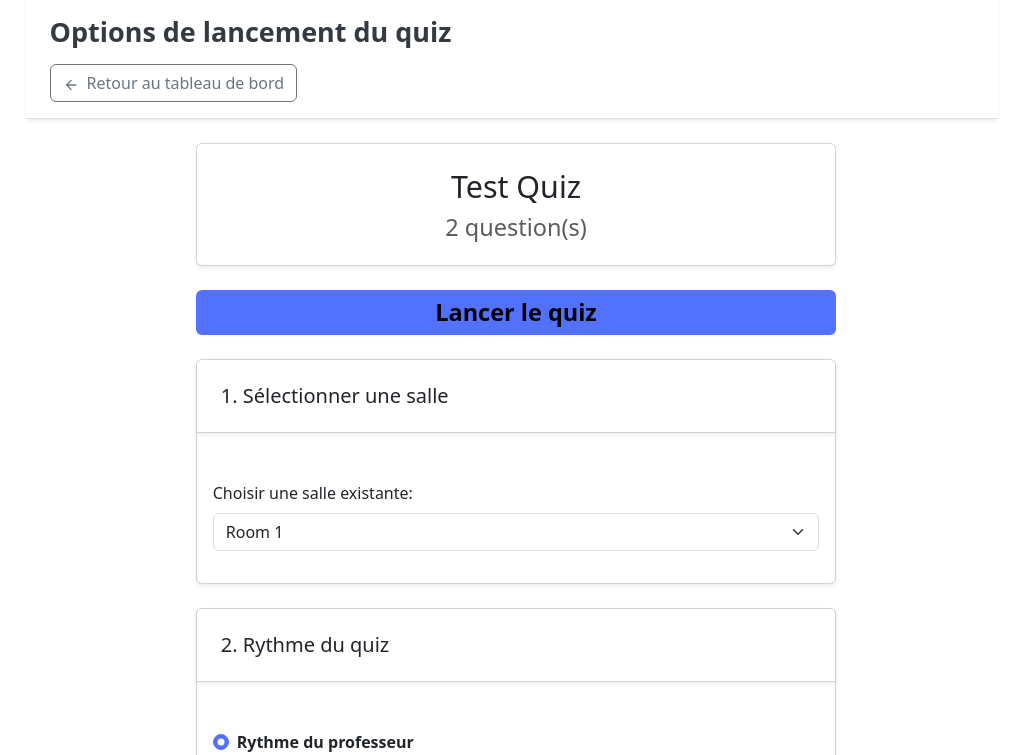
Test: ManageRoomV2 Component › WebSocket Integration › should handle user joined event
The image size is (1024, 755).
Select "Room 1" in the dropdown: (516, 532) [213,513,819,551]
Click the button "Lancer le quiz": (516, 312) [196,290,836,335]
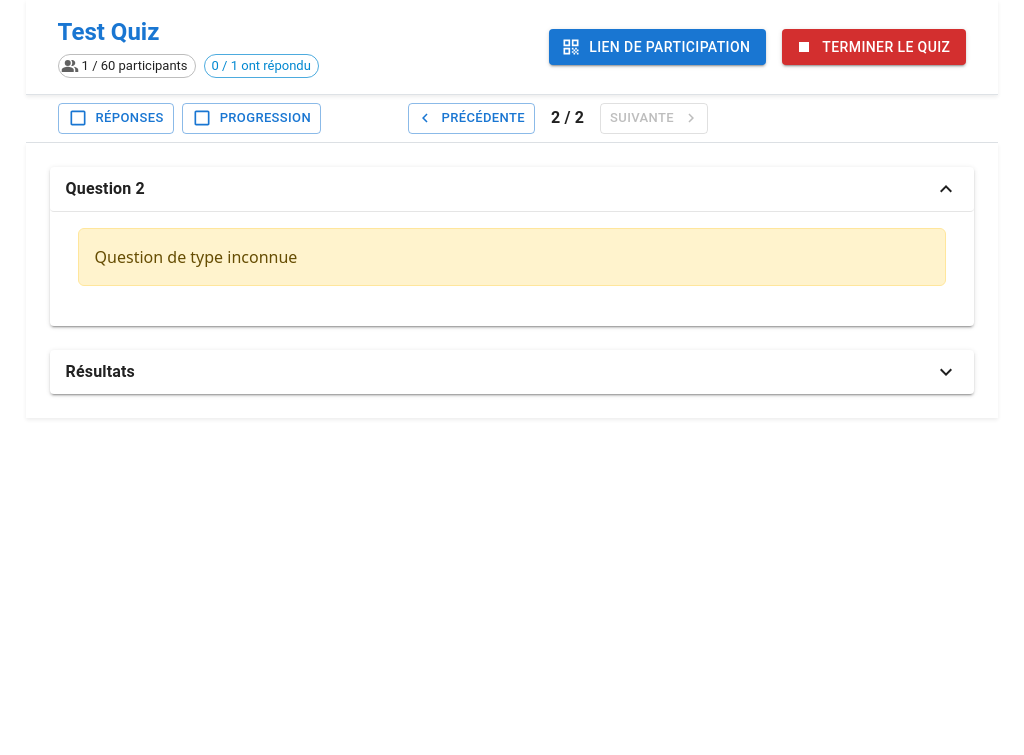
Expected: the text "0 / 1 ont répondu" is shown, [205,56,318,76]
